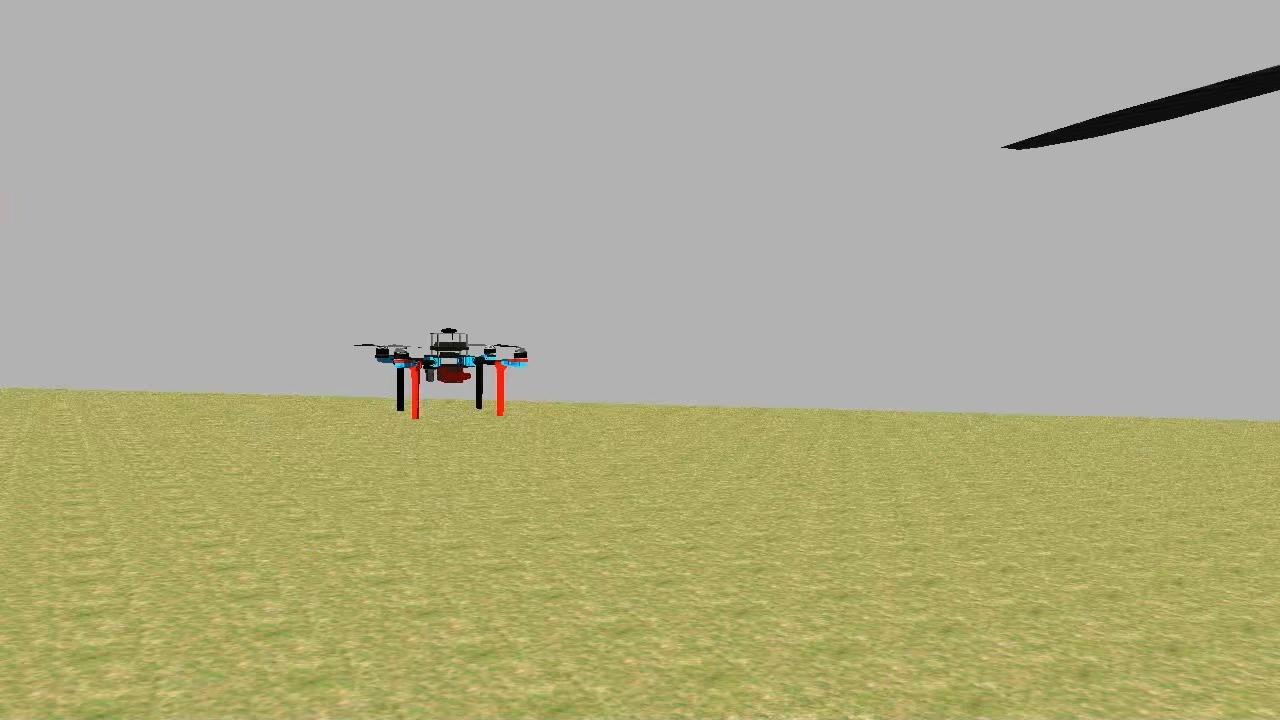UAV: (372, 322, 536, 420)
